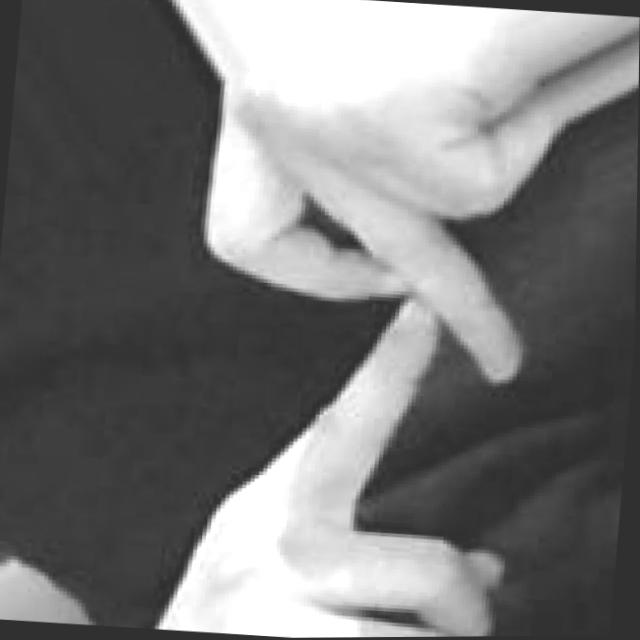R: (134, 7, 565, 639)
